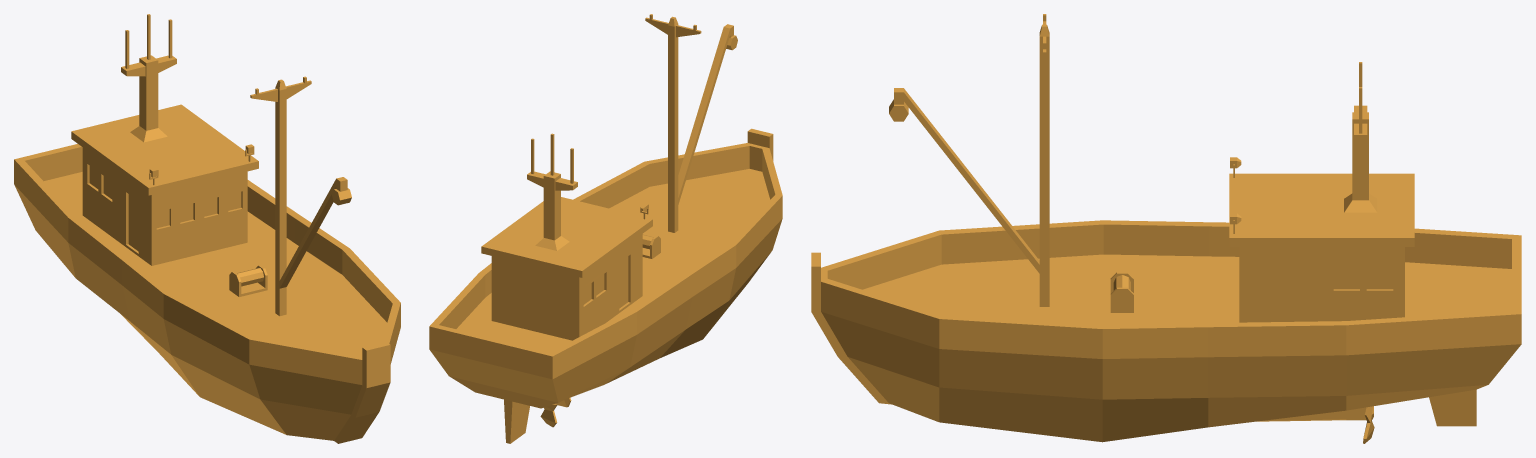
The model's file is boat-fishing.glb.
The picture shows the model from 3 angles, left to right: view 1: azimuth 30°, elevation 25°; view 2: azimuth 150°, elevation 25°; view 3: azimuth 270°, elevation 25°; orthographic projection. The views are drawn at different scales.
Visible parts, largest first — view 1: boat-fishing; view 2: boat-fishing; view 3: boat-fishing.
Part boxes in pixels (x1,y1,x2,y2): boat-fishing: [14, 14, 400, 443]; boat-fishing: [429, 14, 782, 443]; boat-fishing: [811, 14, 1521, 443].
Size of the model in its own units: 7.78 by 13.84 by 21.46.
